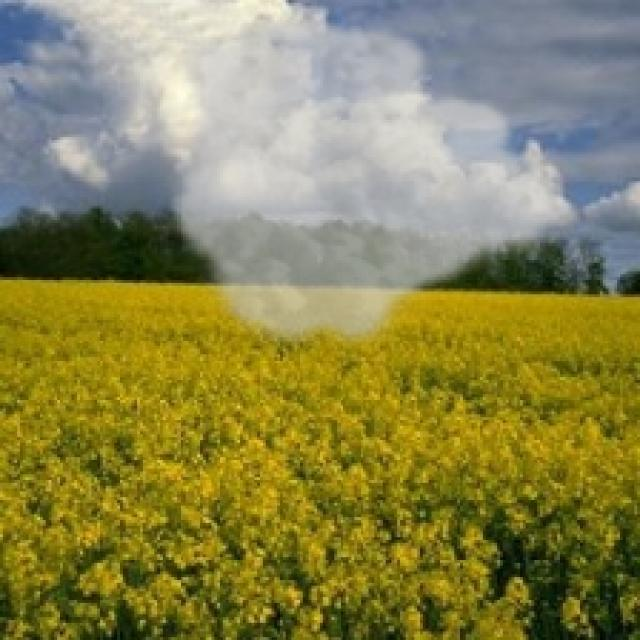smoke: (166, 12, 571, 354)
